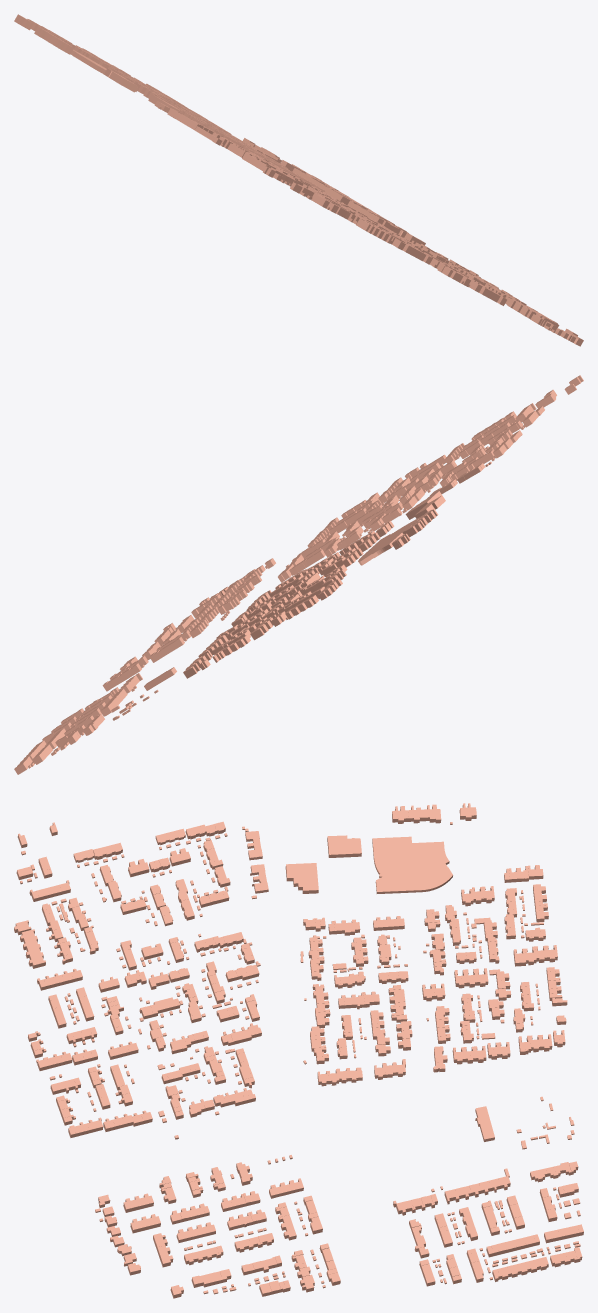
3 views of the same model, one above another, from view 1: azimuth 30°, elevation 25°; view 2: azimuth 150°, elevation 25°; view 3: azimuth 270°, elevation 25° (orthographic). The views are drawn at different scales.
Size of the model in its own units: 518 by 379 by 641.
